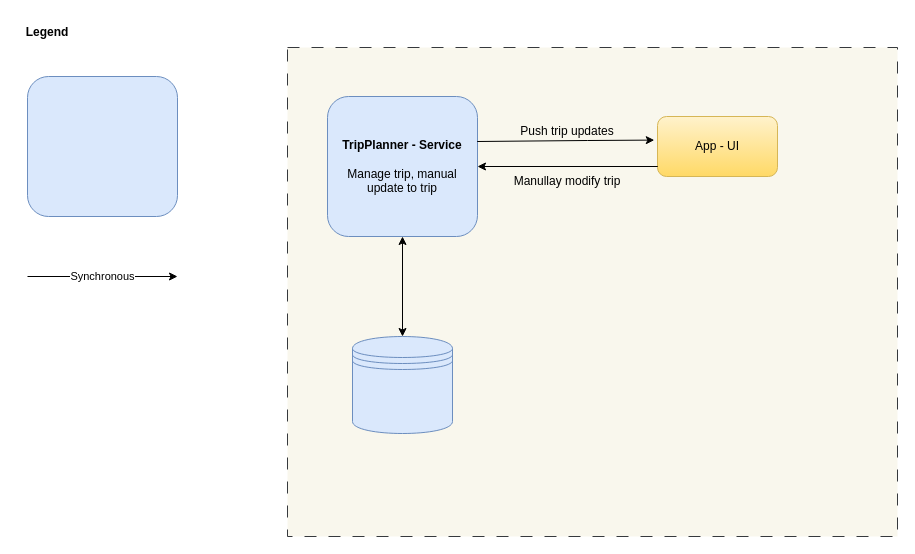
Some shapes in this 915 by 554 pixel diagram are drawn without their labels. The shapes that lost their labels are listed below. From the top down, each one's centre as x and y in pixels, then its label:
At [102,146]: "Service API".
At [402,385]: "Database".
